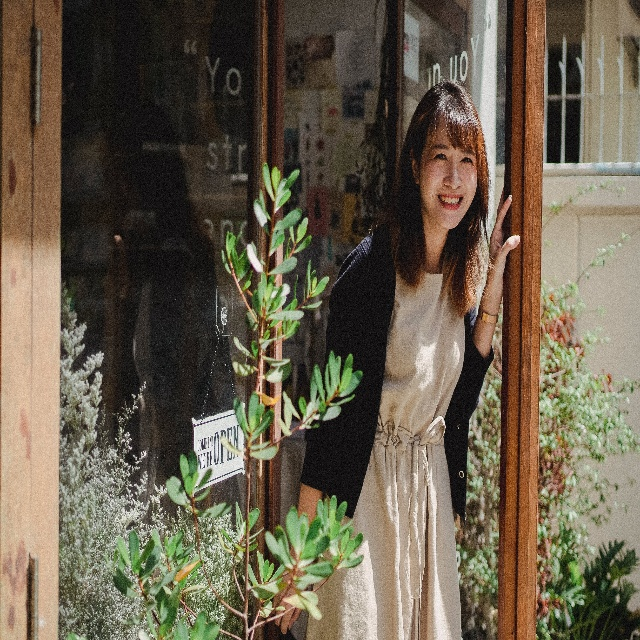Sin_guantes: (490, 189, 519, 295), (272, 564, 304, 635)
